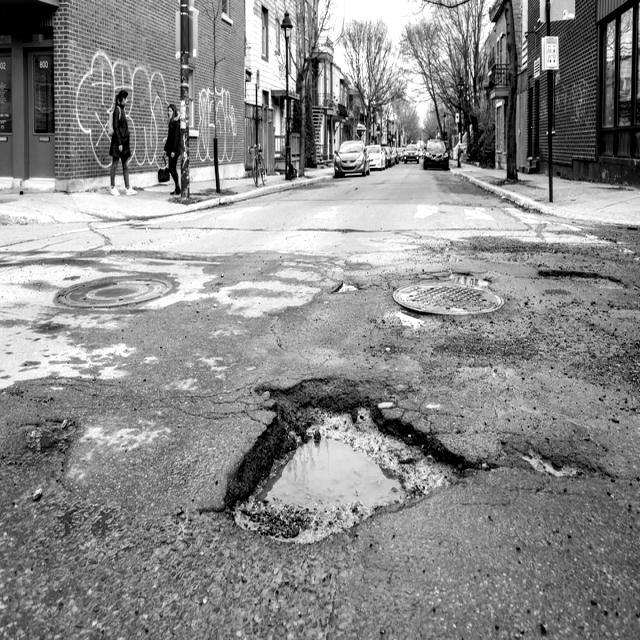pathole: (209, 373, 455, 575), (305, 251, 490, 335), (491, 253, 640, 313), (512, 415, 611, 501)
